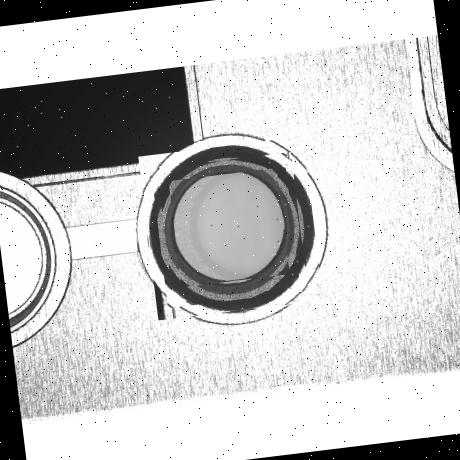Hole: (138, 137, 324, 321)
Hole2: (152, 152, 308, 308)
Hole3: (158, 157, 300, 302)
Hole4: (169, 168, 291, 288)
